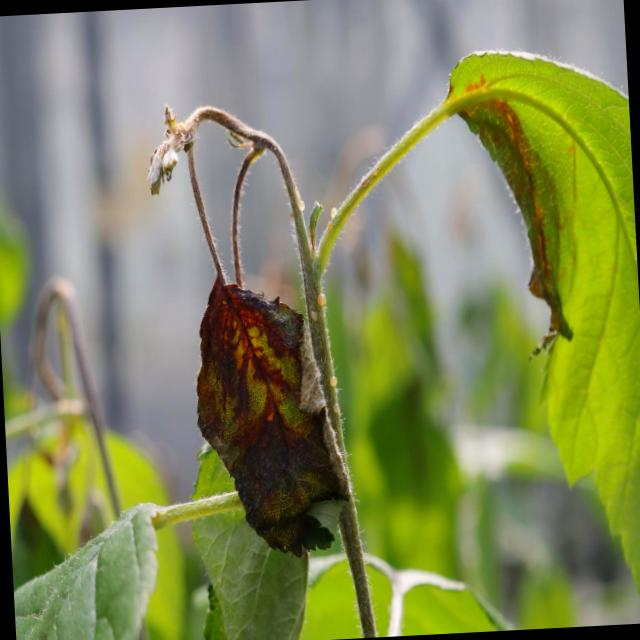-FireBlight-: (110, 88, 359, 572)
